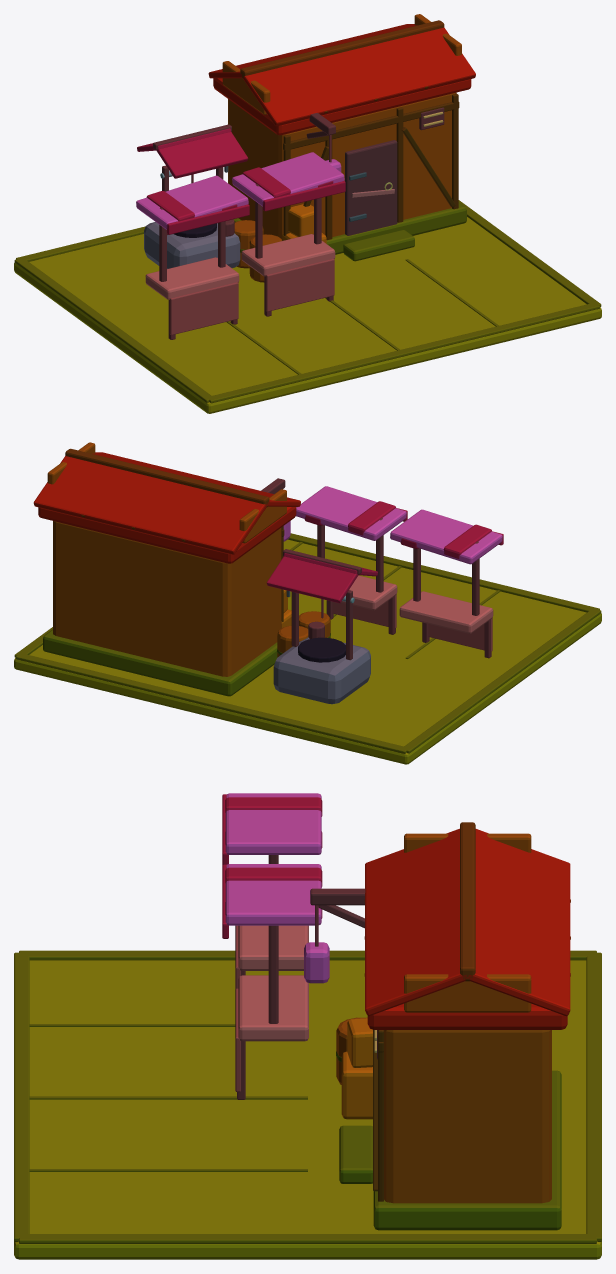
The model's file is environment_market_granary_v01.glb.
3 renders of one model, top to bottom at view 1: azimuth 30°, elevation 25°; view 2: azimuth 150°, elevation 25°; view 3: azimuth 270°, elevation 25°, orthographic. The views are drawn at different scales.
Parts seen in each view (by area): view 1: GEO_MarketGround, GEO_RoofSlopeFront, GEO_Granary, GEO_GranaryDoor, GEO_PlazaCurb, GEO_GranaryRoof, GEO_StallFront.001, GEO_StallFront, GEO_WellRoofFront, GEO_StallAwning, GEO_StallAwning.001, GEO_WellBase (+20 smaller); view 2: GEO_MarketGround, GEO_Granary, GEO_RoofSlopeBack, GEO_GranaryFoundation, GEO_WellBase, GEO_PlazaCurb.001, GEO_GranaryRoof, GEO_StallAwning, GEO_StallAwning.001, GEO_WellRoofBack, GEO_StallCounter, GEO_PlazaCurb.002 (+17 smaller); view 3: GEO_MarketGround, GEO_Granary, GEO_RoofSlopeBack, GEO_RoofSlopeFront, GEO_GranaryFoundation, GEO_PlazaCurb.003, GEO_StallAwning, GEO_PlazaCurb.001, GEO_PlazaCurb, GEO_StallAwning.001, GEO_StallCounter.001, GEO_RoofGable.001 (+18 smaller).
Part boxes in pixels (x1=…): GEO_MarketGround: x1=14, y1=217, x2=601, y2=413; GEO_RoofSlopeFront: x1=243, y1=27, x2=475, y2=126; GEO_Granary: x1=228, y1=92, x2=456, y2=239; GEO_GranaryDoor: x1=345, y1=140, x2=397, y2=235; GEO_PlazaCurb: x1=207, y1=304, x2=599, y2=403; GEO_GranaryRoof: x1=213, y1=78, x2=471, y2=135; GEO_StallFront.001: x1=265, y1=258, x2=334, y2=311; GEO_StallFront: x1=169, y1=282, x2=238, y2=335; GEO_WellRoofFront: x1=156, y1=132, x2=248, y2=178; GEO_StallAwning: x1=136, y1=175, x2=248, y2=229; GEO_StallAwning.001: x1=232, y1=152, x2=344, y2=206; GEO_WellBase: x1=144, y1=222, x2=240, y2=268; GEO_MarketGround: x1=14, y1=539, x2=601, y2=764; GEO_Granary: x1=53, y1=521, x2=281, y2=676; GEO_RoofSlopeBack: x1=33, y1=456, x2=267, y2=554; GEO_GranaryFoundation: x1=43, y1=629, x2=277, y2=696; GEO_WellBase: x1=273, y1=637, x2=370, y2=704; GEO_PlazaCurb.001: x1=16, y1=653, x2=408, y2=753; GEO_GranaryRoof: x1=38, y1=507, x2=296, y2=563; GEO_StallAwning: x1=390, y1=509, x2=502, y2=564; GEO_StallAwning.001: x1=296, y1=486, x2=406, y2=540; GEO_WellRoofBack: x1=266, y1=556, x2=358, y2=603; GEO_StallCounter: x1=399, y1=591, x2=493, y2=633; GEO_PlazaCurb.002: x1=402, y1=610, x2=601, y2=753; GEO_MarketGround: x1=14, y1=960, x2=601, y2=1259; GEO_Granary: x1=384, y1=1030, x2=551, y2=1203; GEO_RoofSlopeBack: x1=467, y1=829, x2=570, y2=1016; GEO_RoofSlopeFront: x1=365, y1=828, x2=467, y2=1016; GEO_GranaryFoundation: x1=373, y1=1070, x2=561, y2=1230; GEO_PlazaCurb.003: x1=19, y1=1234, x2=596, y2=1243; GEO_StallAwning: x1=225, y1=793, x2=321, y2=854; GEO_PlazaCurb.001: x1=586, y1=952, x2=601, y2=1241; GEO_PlazaCurb: x1=14, y1=952, x2=29, y2=1241; GEO_StallAwning.001: x1=225, y1=864, x2=321, y2=925; GEO_StallCounter.001: x1=238, y1=975, x2=308, y2=1041; GEO_RoofGable.001: x1=404, y1=974, x2=531, y2=1012.
Size of the model in its own units: 7 by 3.22 by 6.
